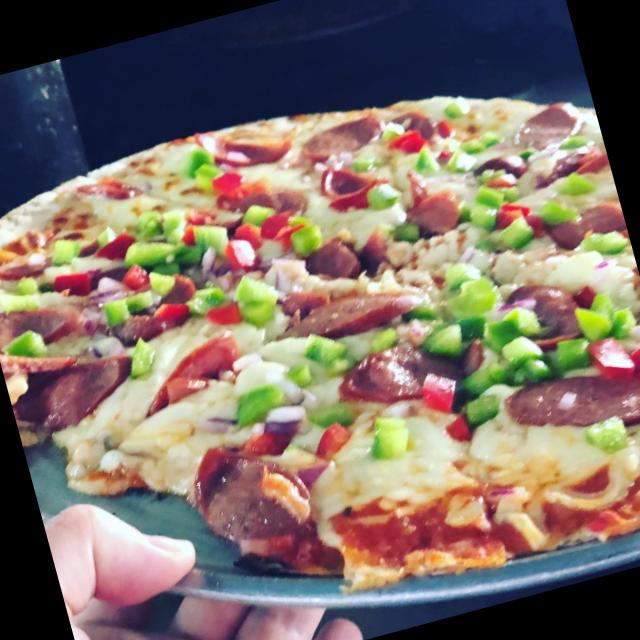pepperoni: (184, 421, 324, 555), (492, 342, 640, 468), (326, 318, 491, 422), (0, 321, 137, 439), (290, 270, 416, 346), (490, 263, 595, 349), (504, 90, 598, 160), (210, 115, 306, 177), (296, 110, 382, 170)
peppers: (474, 290, 588, 388), (120, 195, 216, 308), (462, 170, 536, 256), (268, 324, 350, 394), (251, 198, 337, 260), (408, 127, 489, 185), (454, 354, 514, 428), (570, 282, 640, 343), (230, 372, 294, 429), (590, 325, 640, 394), (280, 212, 342, 266), (2, 322, 61, 373), (97, 280, 160, 327), (230, 275, 280, 332), (182, 138, 229, 196), (363, 408, 408, 460), (418, 364, 461, 418), (121, 332, 172, 376), (578, 220, 628, 264), (191, 213, 238, 259), (580, 414, 630, 456), (312, 419, 356, 465), (423, 311, 468, 355), (246, 416, 290, 460), (96, 222, 143, 260), (230, 196, 276, 234), (529, 191, 569, 231), (498, 195, 538, 232), (358, 178, 398, 214), (388, 214, 426, 250), (49, 266, 88, 298), (114, 260, 150, 290), (566, 168, 598, 201), (48, 240, 82, 268), (438, 100, 468, 126)
pizza: (0, 96, 640, 596)
